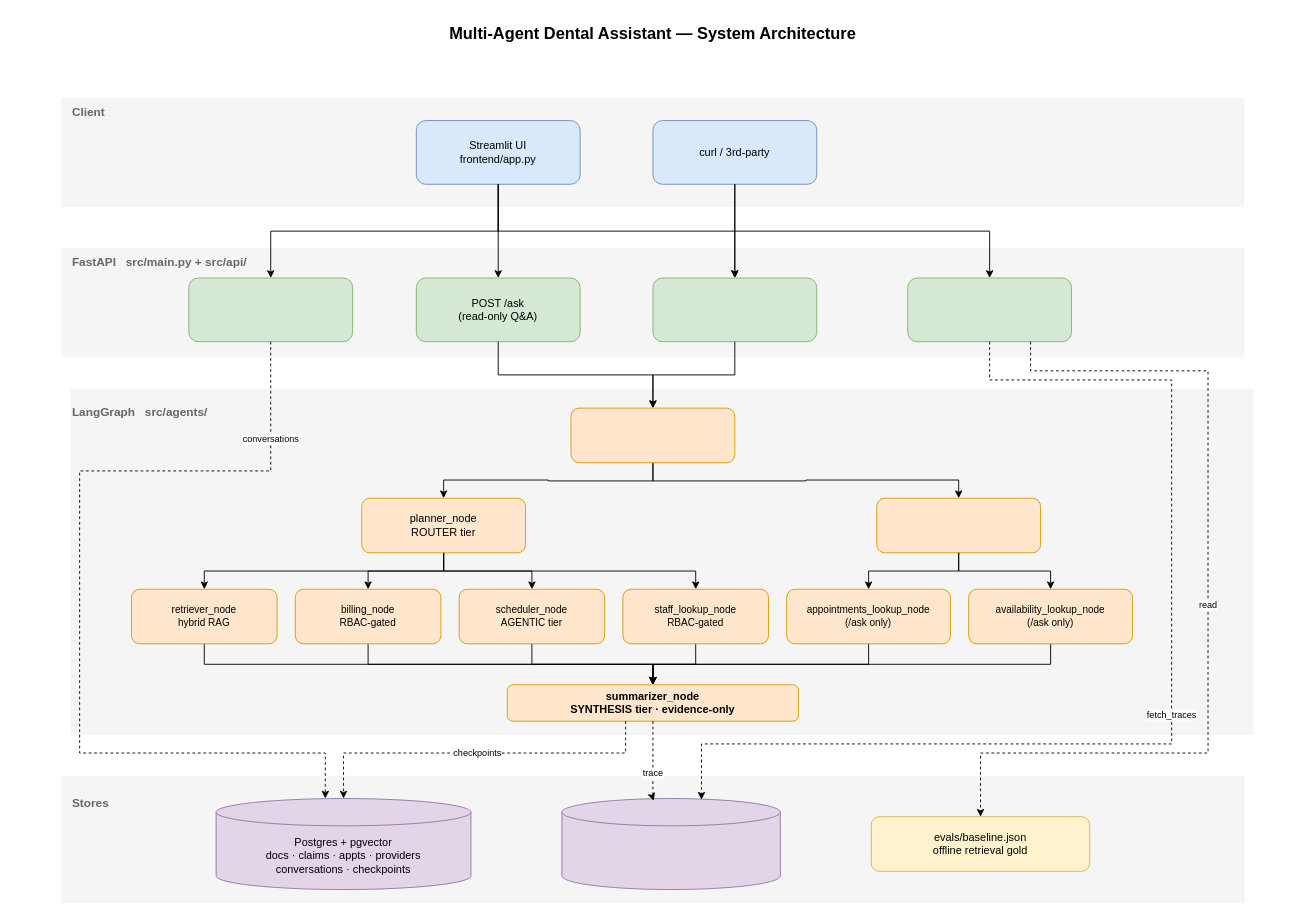
The diagram is 1305 pixels wide and 918 high, and some of its shapes have lost their labels. Each missing label, with the box of its shape:
ask_classifier_node ROUTER tier: (876, 497, 1041, 553)
GET /metrics: (907, 277, 1072, 342)
GET /sessions GET /tenants /users: (188, 277, 353, 342)
Langfuse traces · scores · cost: (561, 798, 780, 890)
POST /agent (tool use): (652, 277, 817, 342)
safety_node PHI scrub: (570, 407, 735, 463)
